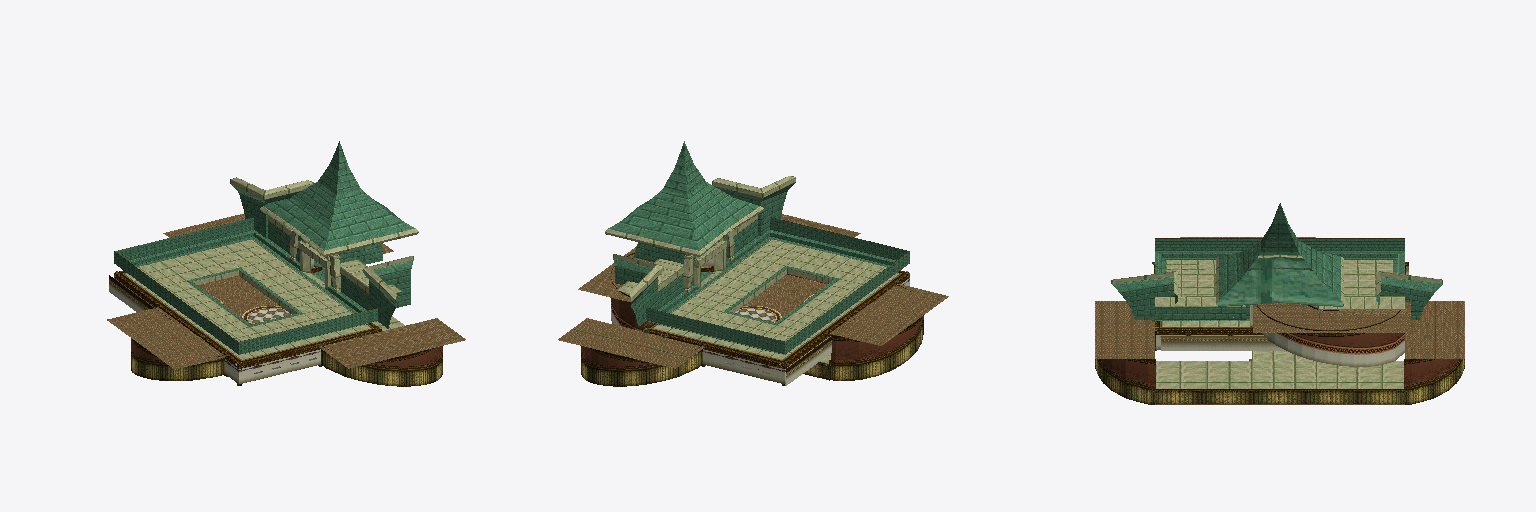
The picture shows the model from 3 angles: view 1: azimuth 30°, elevation 25°; view 2: azimuth 150°, elevation 25°; view 3: azimuth 270°, elevation 25°; orthographic projection.
Parts seen in each view (by area): view 1: Group1, Group2; view 2: Group1, Group2; view 3: Group1, Group2.
Part boxes in pixels (x1,y1,x2,y2): Group1: (107,141,465,386); Group2: (114,177,418,373); Group1: (558,141,948,386); Group2: (605,176,909,378); Group1: (1095,203,1464,404); Group2: (1111,255,1442,388).
Size of the model in its own units: 14470 by 9945 by 17674.
Materials: 4 (4 with a texture image).